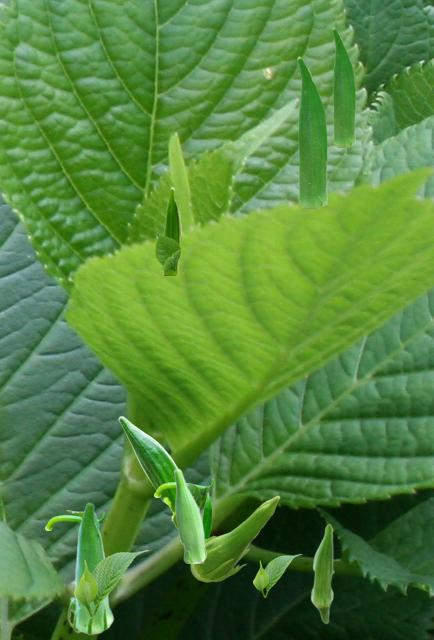okra: (190, 495, 279, 581), (118, 416, 178, 528), (67, 502, 113, 634), (297, 56, 326, 207), (173, 468, 205, 562), (332, 27, 354, 146), (310, 523, 333, 623), (163, 187, 180, 274), (45, 512, 103, 529), (154, 479, 212, 496), (202, 490, 211, 537)
